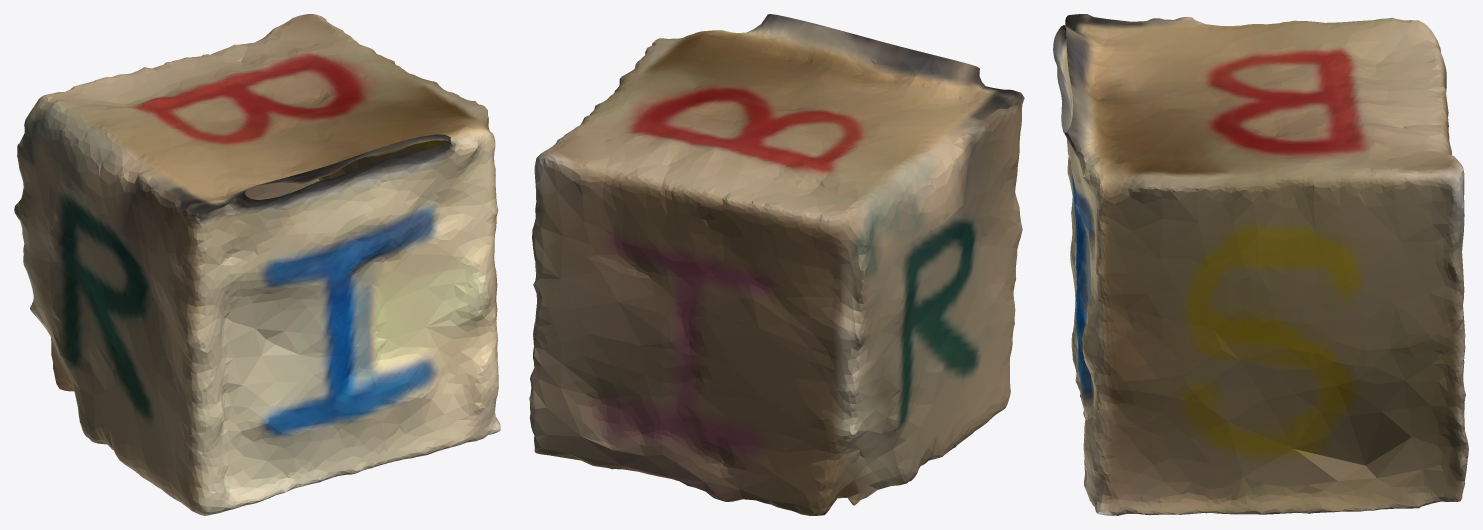
3 renders of one model, left to right at view 1: azimuth 30°, elevation 25°; view 2: azimuth 150°, elevation 25°; view 3: azimuth 270°, elevation 25°, orthographic. The views are drawn at different scales.
Bounding box in the file's own units: 0.0754 × 0.0707 × 0.0734.
1 material, 1 textured.
